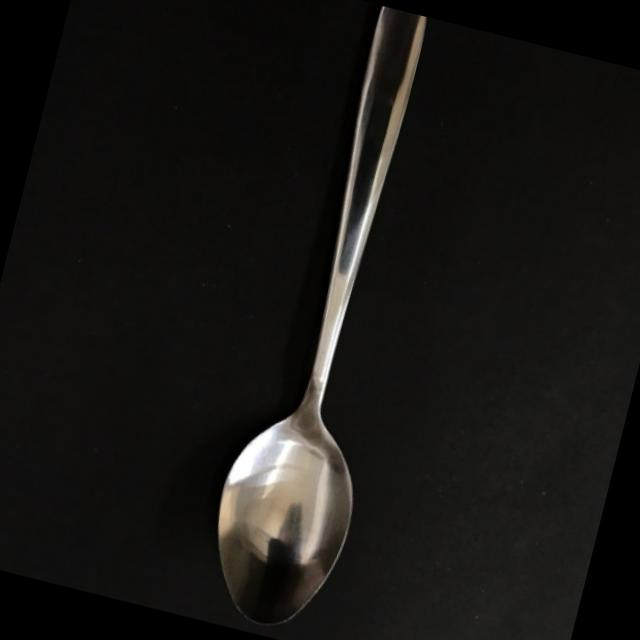spoon: (170, 0, 479, 640)
